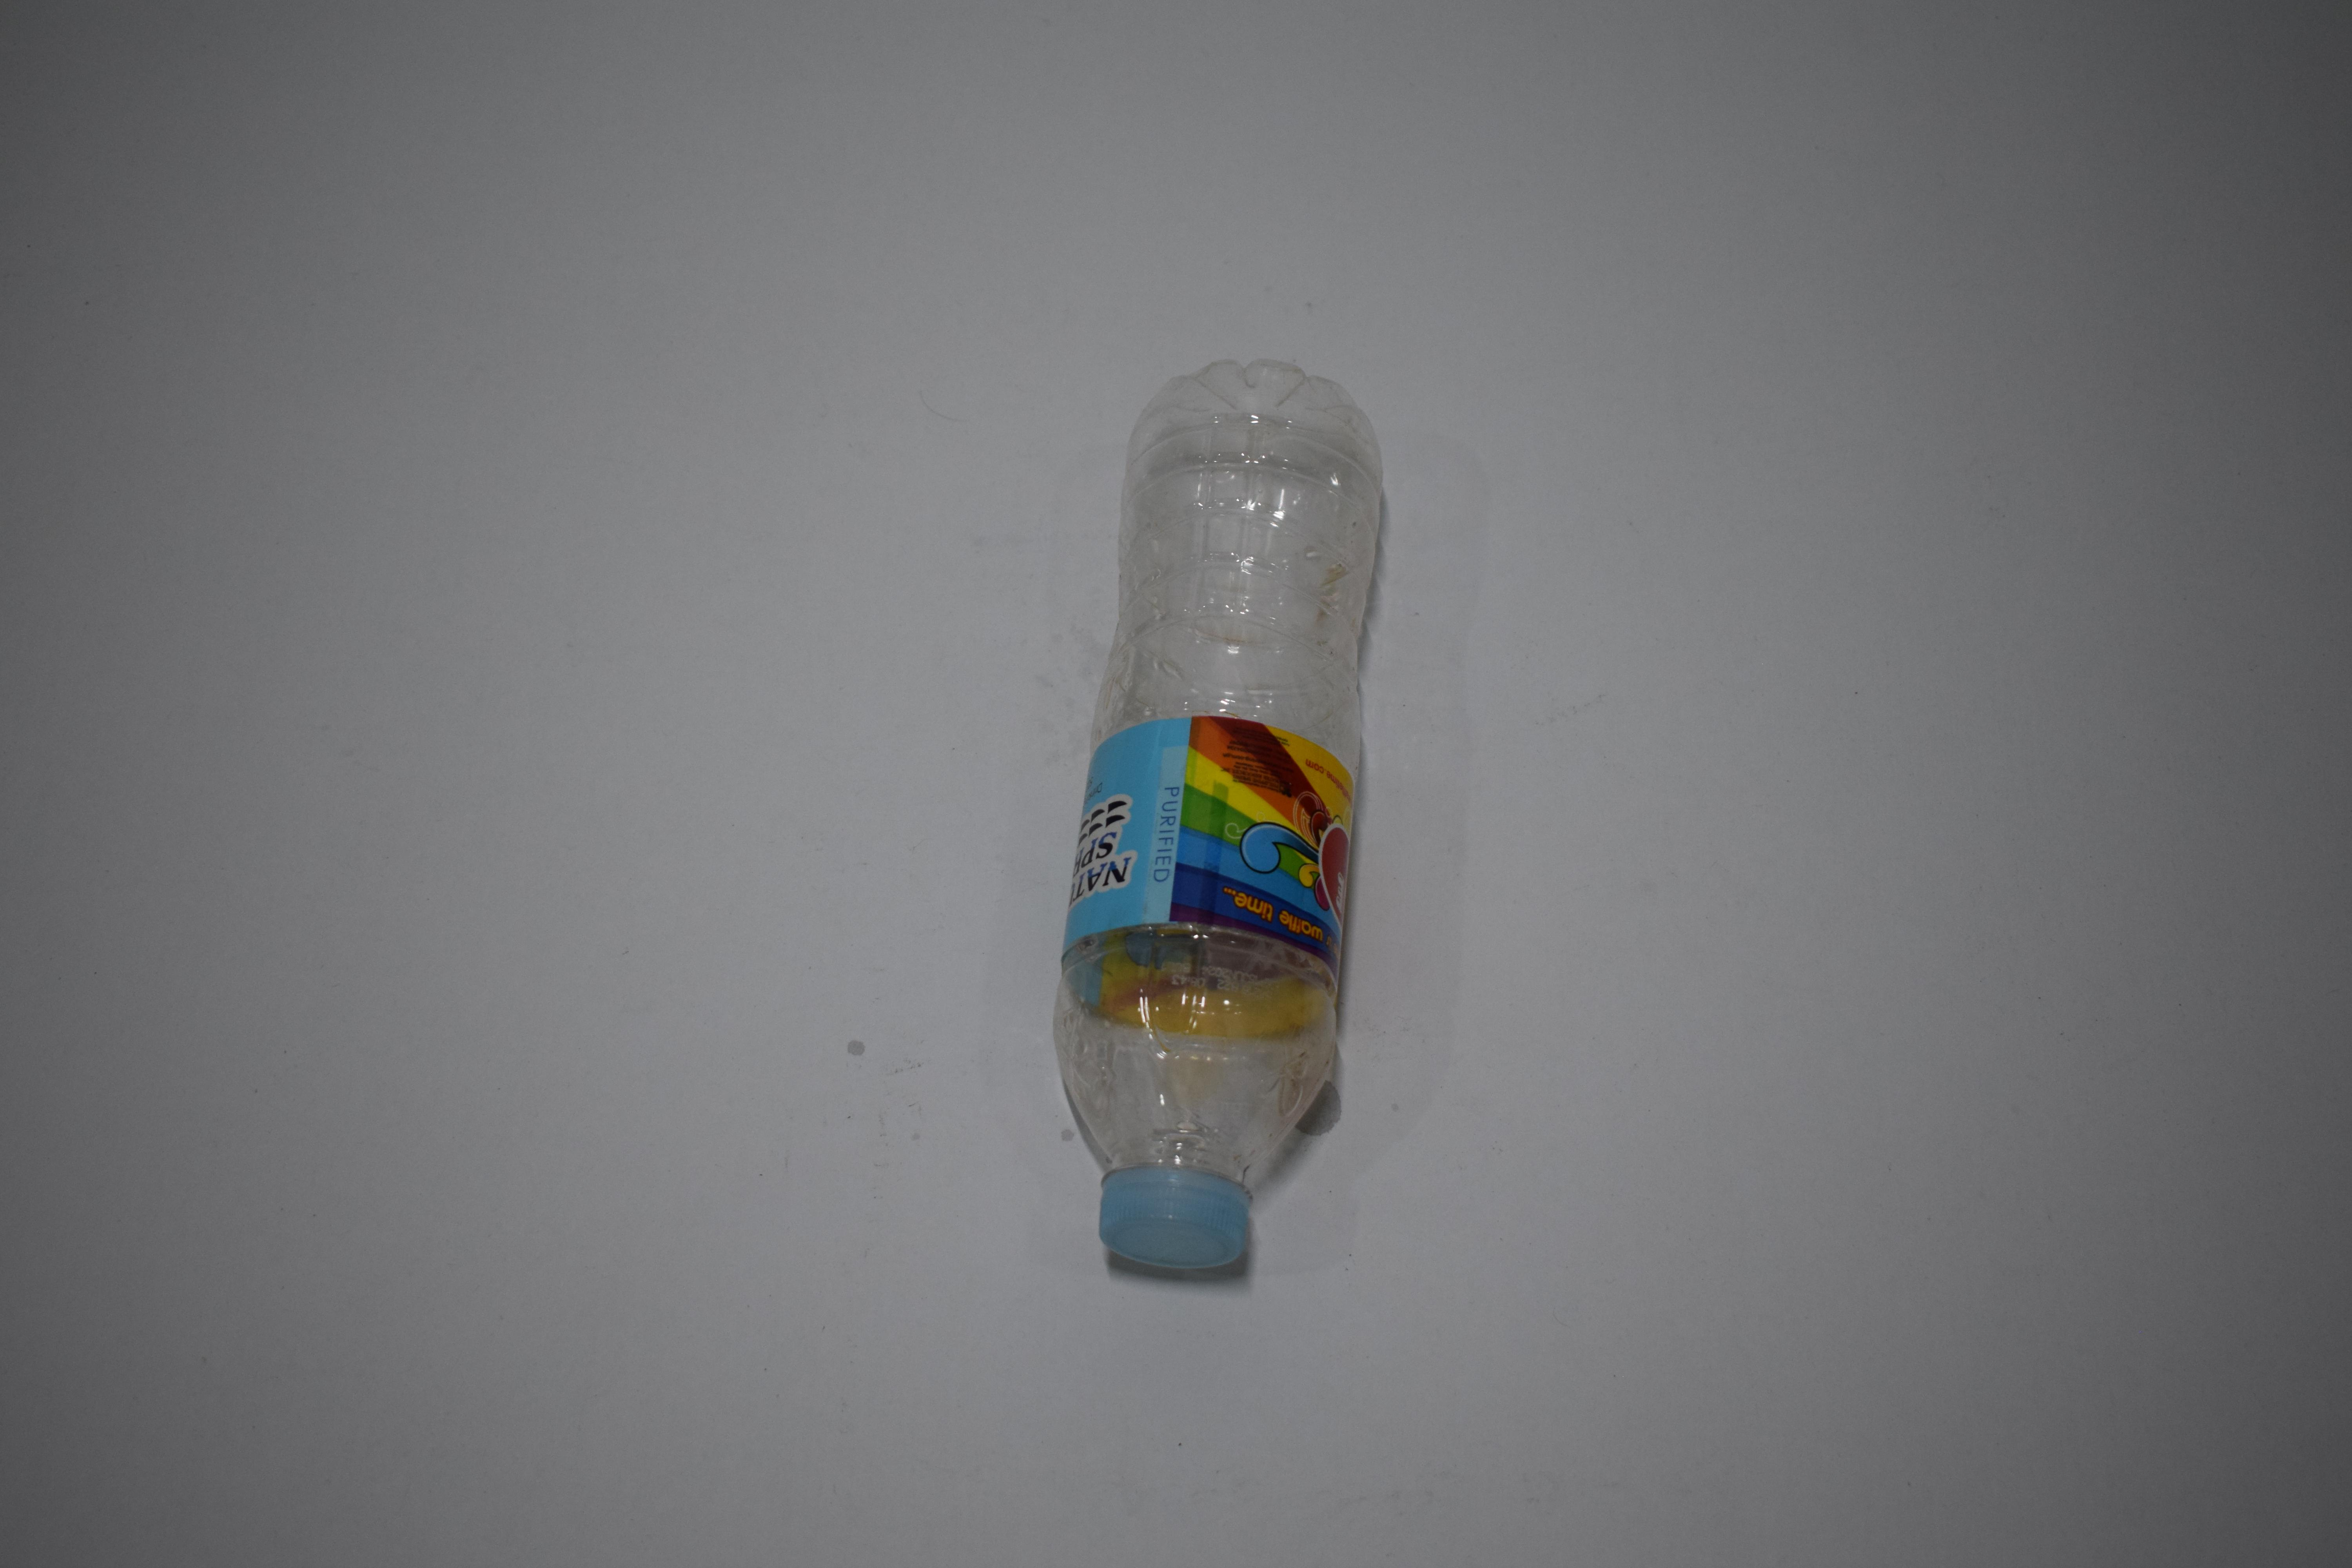bottle: (0, 0, 159, 500)
